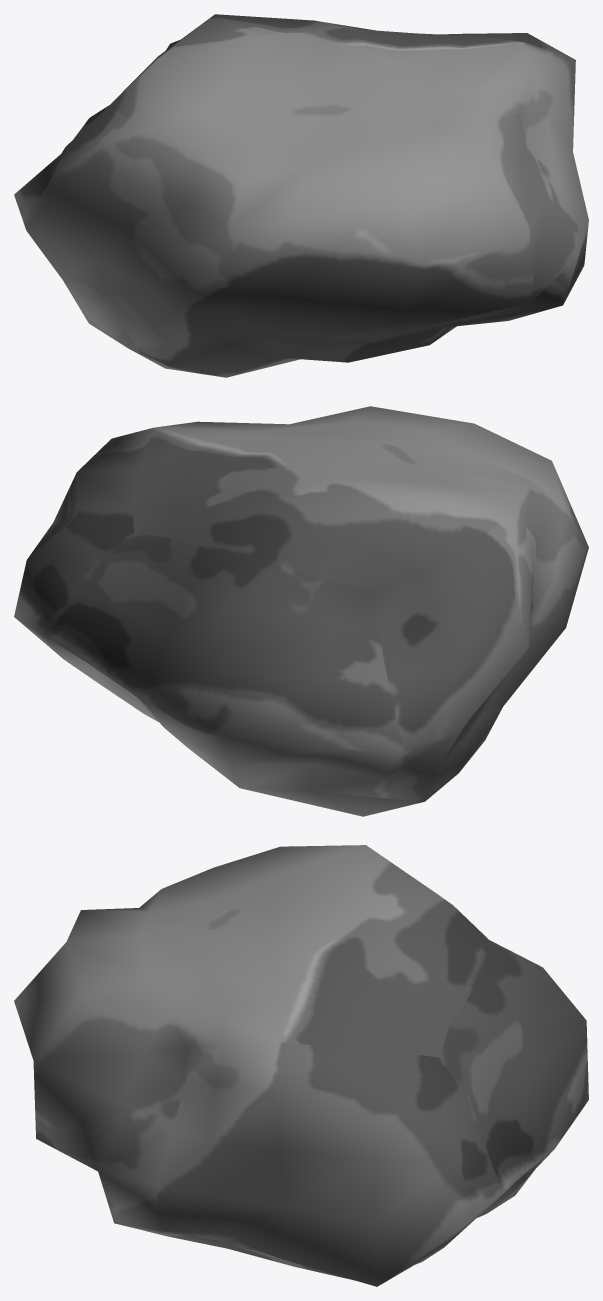
File: Rock_Mesh_1.FBX
The picture shows the model from 3 angles, top to bottom: view 1: azimuth 30°, elevation 25°; view 2: azimuth 150°, elevation 25°; view 3: azimuth 270°, elevation 25°; orthographic projection. The views are drawn at different scales.
Parts seen in each view (by area): view 1: Cartoon_Rock_1; view 2: Cartoon_Rock_1; view 3: Cartoon_Rock_1.
Boxes of the visible parts, box(x1,y1,x2,y2) form: Cartoon_Rock_1: box(14, 14, 588, 377); Cartoon_Rock_1: box(14, 406, 588, 816); Cartoon_Rock_1: box(14, 845, 588, 1286).
Size of the model in its own units: 3.92 by 2.36 by 3.76.
